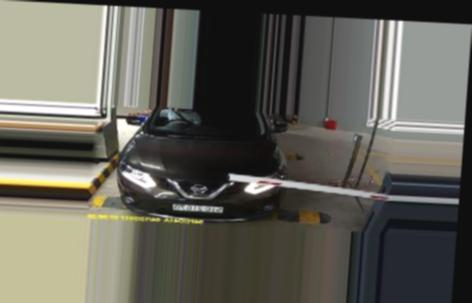License_Plate: (173, 203, 222, 213)
